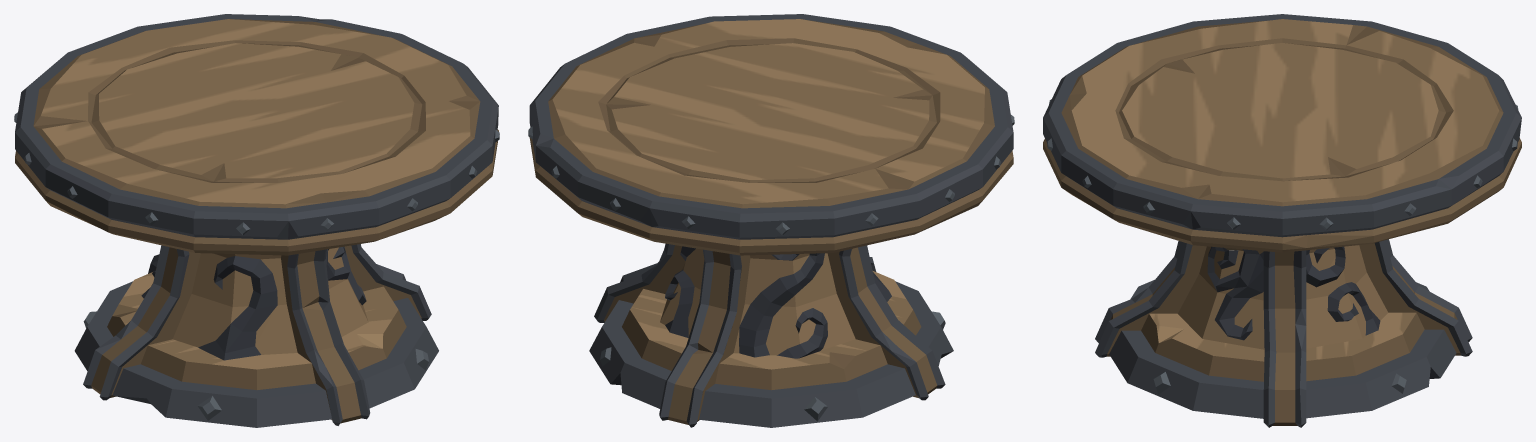
File: SM_Prop_Table_03.fbx
The picture shows the model from 3 angles, left to right: view 1: azimuth 30°, elevation 25°; view 2: azimuth 150°, elevation 25°; view 3: azimuth 270°, elevation 25°; orthographic projection.
Parts seen in each view (by area): view 1: SM_Prop_Table_03; view 2: SM_Prop_Table_03; view 3: SM_Prop_Table_03.
Part boxes in pixels (<box>): SM_Prop_Table_03: <box>14,14,499,427</box>; SM_Prop_Table_03: <box>528,14,1014,427</box>; SM_Prop_Table_03: <box>1043,14,1521,427</box>.
Size of the model in its own units: 182 by 99.97 by 182.
